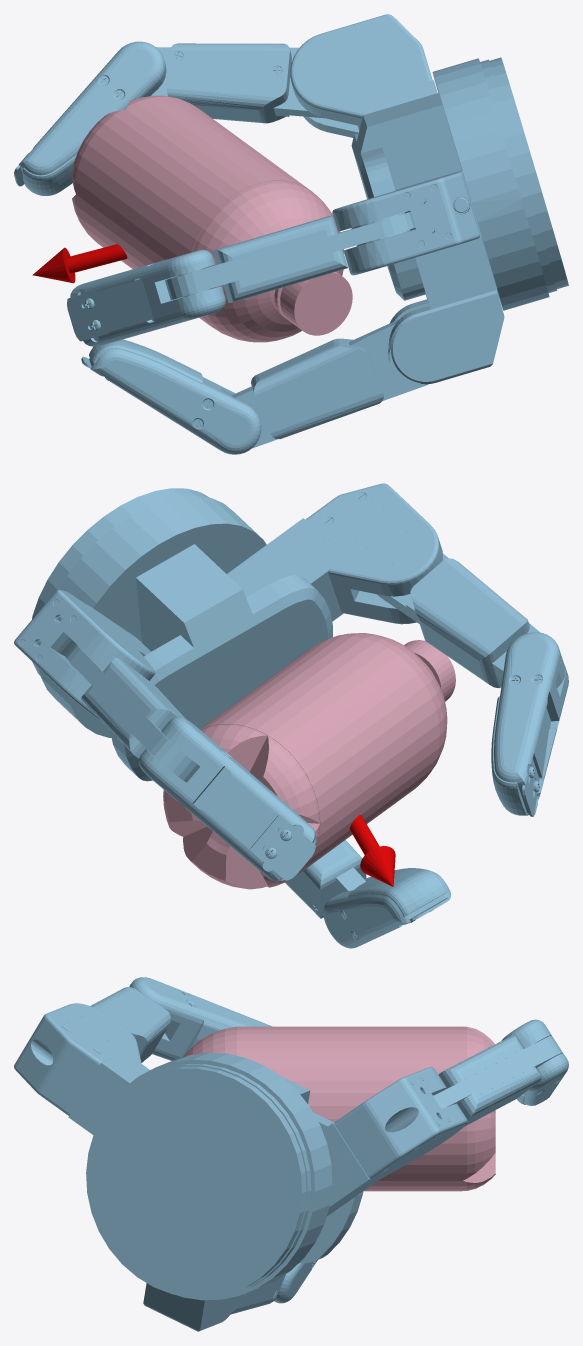
3 renders of one model, top to bottom at view 1: azimuth 30°, elevation 25°; view 2: azimuth 150°, elevation 25°; view 3: azimuth 270°, elevation 25°, orthographic. The views are drawn at different scales.
Visible parts, largest first — view 1: world, water_bottle.stl; view 2: world, water_bottle.stl; view 3: world, water_bottle.stl.
Part boxes in pixels (x1,y1,x2,y2): world: [14, 14, 568, 454]; water_bottle.stl: [72, 95, 352, 342]; world: [14, 483, 568, 948]; water_bottle.stl: [163, 633, 455, 889]; world: [14, 977, 568, 1331]; water_bottle.stl: [183, 1026, 495, 1191].
Bounding box in the file's own units: 0.1941 × 0.1379 × 0.2028.
